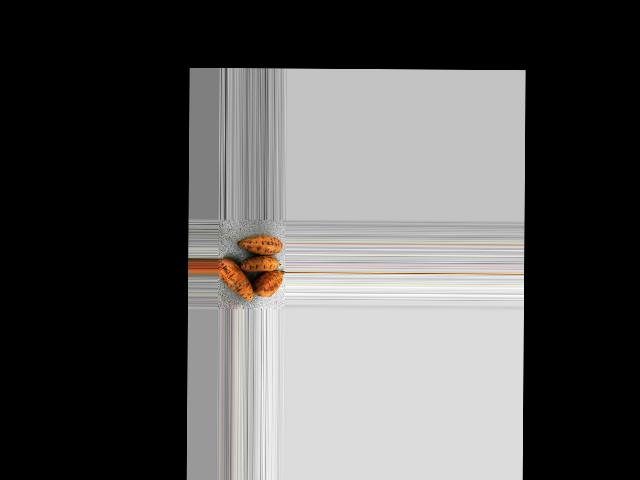sweet_potato: (217, 253, 253, 304)
